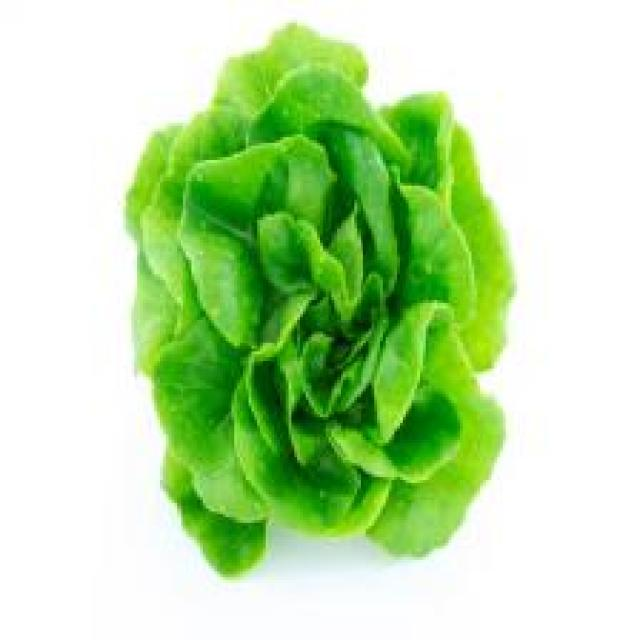Lettuce: (118, 22, 520, 580)
